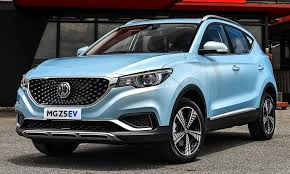pickup: (16, 15, 277, 163)
